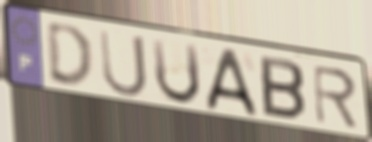A: (203, 47, 261, 118)
B: (258, 52, 308, 123)
D: (44, 22, 97, 92)
R: (310, 63, 361, 132)
U: (96, 27, 150, 100), (148, 36, 203, 107)
